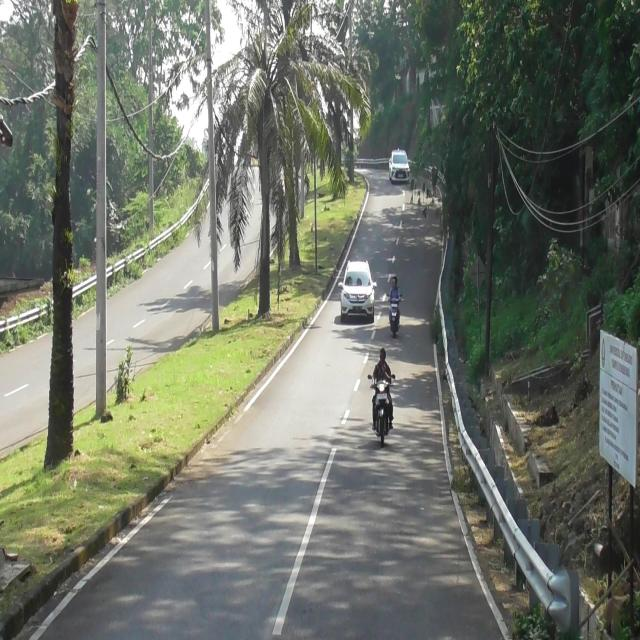motorcycle: (372, 376, 392, 447), (389, 296, 400, 337)
person: (372, 349, 392, 388), (389, 274, 402, 301)
rider_region: (372, 351, 394, 446), (388, 274, 400, 336)
